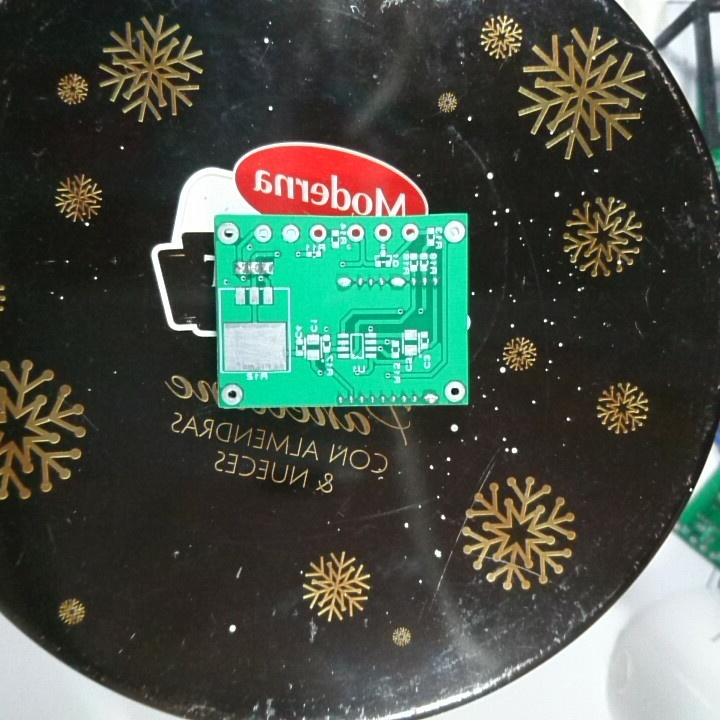F: (220, 382, 246, 407), (216, 221, 241, 246), (442, 220, 466, 246), (442, 380, 468, 403), (253, 223, 276, 246), (280, 223, 302, 246), (371, 223, 394, 243), (399, 222, 420, 243), (345, 222, 366, 243), (308, 223, 328, 244)
P: (334, 272, 354, 291), (388, 273, 407, 292), (421, 391, 441, 405)
